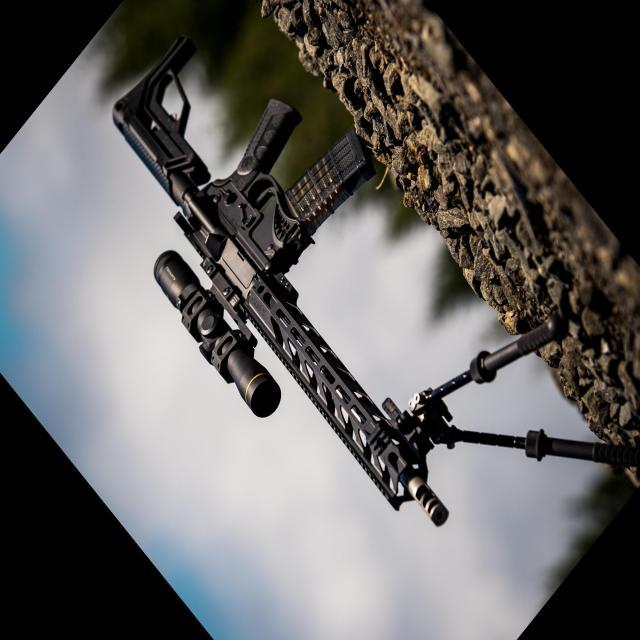weapon: (112, 33, 640, 530)
